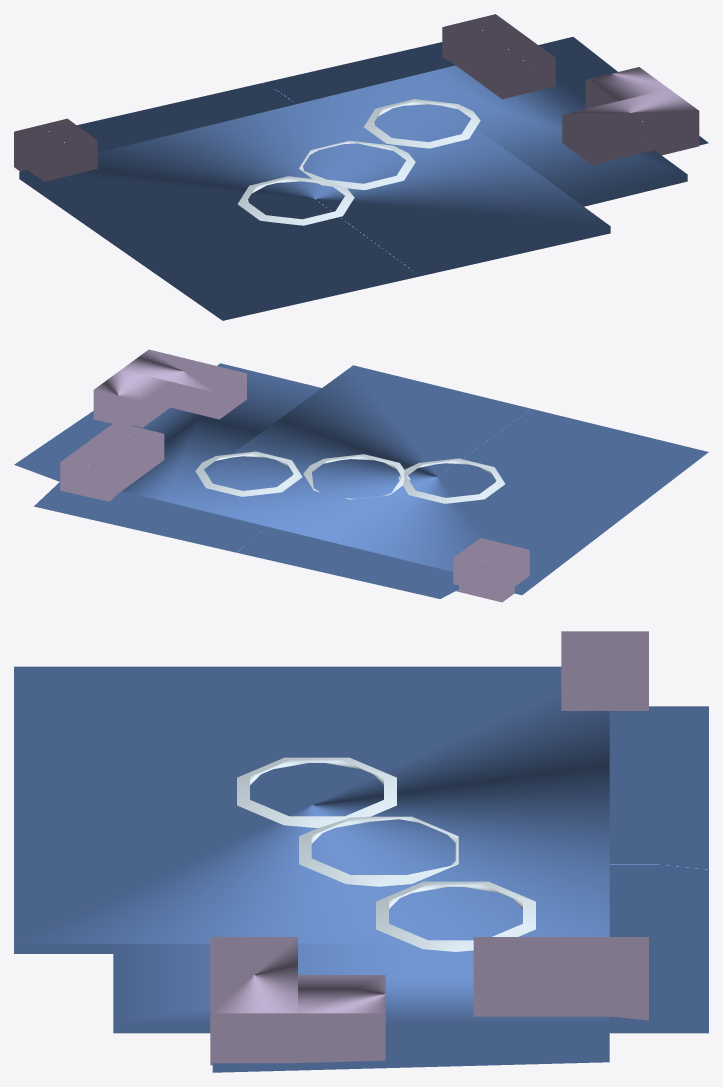
The model's file is puddle-water-pixor-blocky_lod1.glb.
3 views of the same model, one above another, from view 1: azimuth 30°, elevation 25°; view 2: azimuth 150°, elevation 25°; view 3: azimuth 270°, elevation 25° (orthographic). The views are drawn at different scales.
Parts seen in each view (by area): view 1: Puddle water, Puddle pebbles, Puddle ripples; view 2: Puddle water, Puddle pebbles, Puddle ripples; view 3: Puddle water, Puddle pebbles, Puddle ripples.
Part boxes in pixels (x1=…): Puddle water: x1=19, y1=37, x2=708, y2=320; Puddle pebbles: x1=14, y1=14, x2=699, y2=181; Puddle ripples: x1=238, y1=99, x2=480, y2=225; Puddle water: x1=14, y1=363, x2=708, y2=598; Puddle pebbles: x1=60, y1=349, x2=529, y2=602; Puddle ripples: x1=195, y1=451, x2=504, y2=503; Puddle water: x1=14, y1=666, x2=708, y2=1072; Puddle pebbles: x1=210, y1=631, x2=648, y2=1065; Puddle ripples: x1=237, y1=757, x2=535, y2=951.
Size of the model in its own units: 1.21 by 0.0742 by 0.9006.
